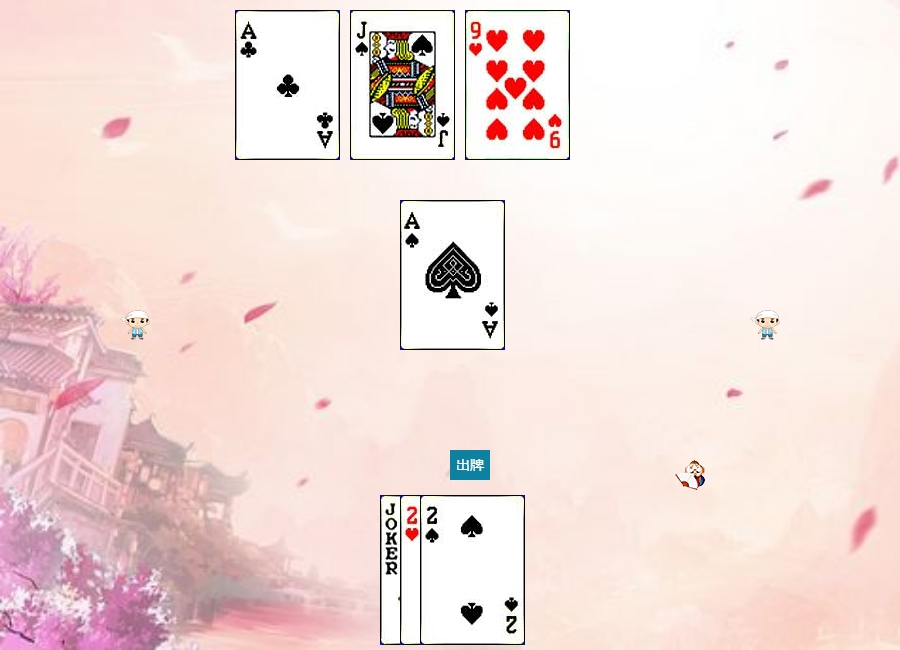11~4: (350, 10, 455, 160)
14~2: (235, 10, 340, 160)
14~4: (400, 200, 505, 350)
15~3: (400, 495, 505, 645)
15~4: (420, 495, 525, 645)
17~3: (380, 495, 485, 645)
9~3: (465, 10, 570, 160)
